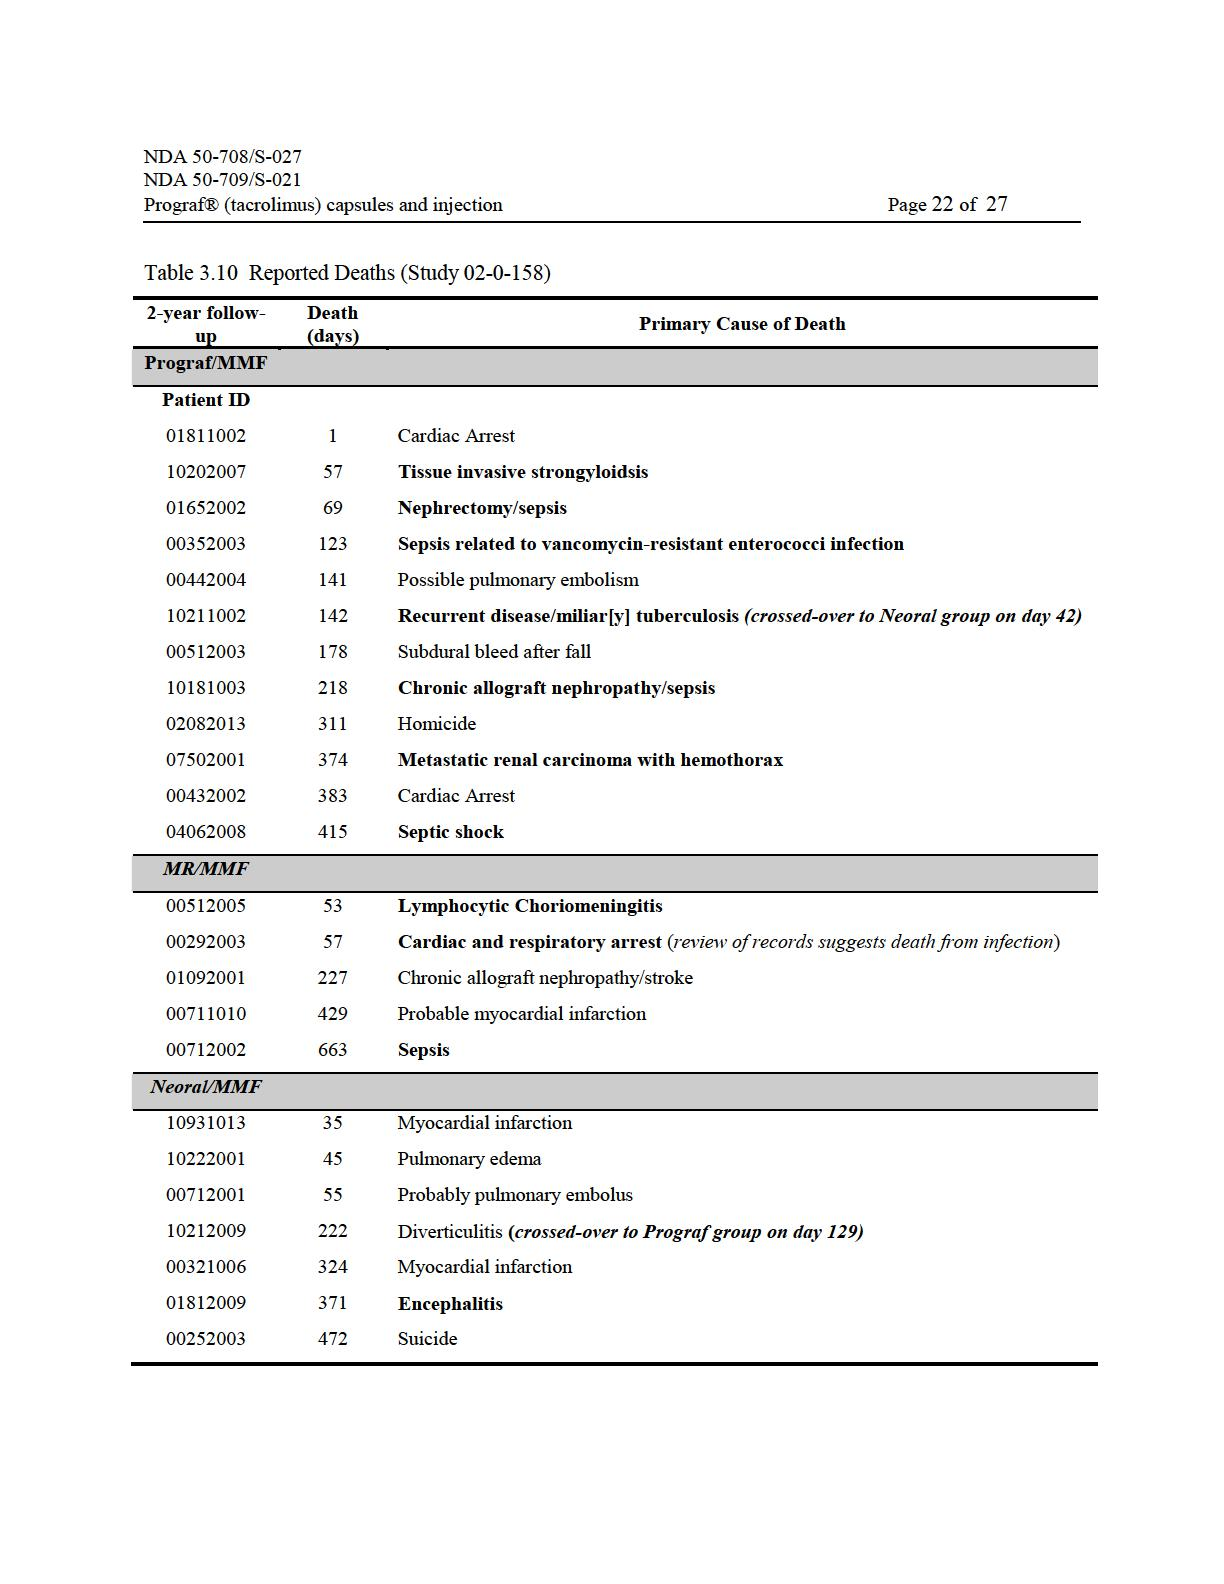partial_lined: (131, 294, 1099, 1365)
